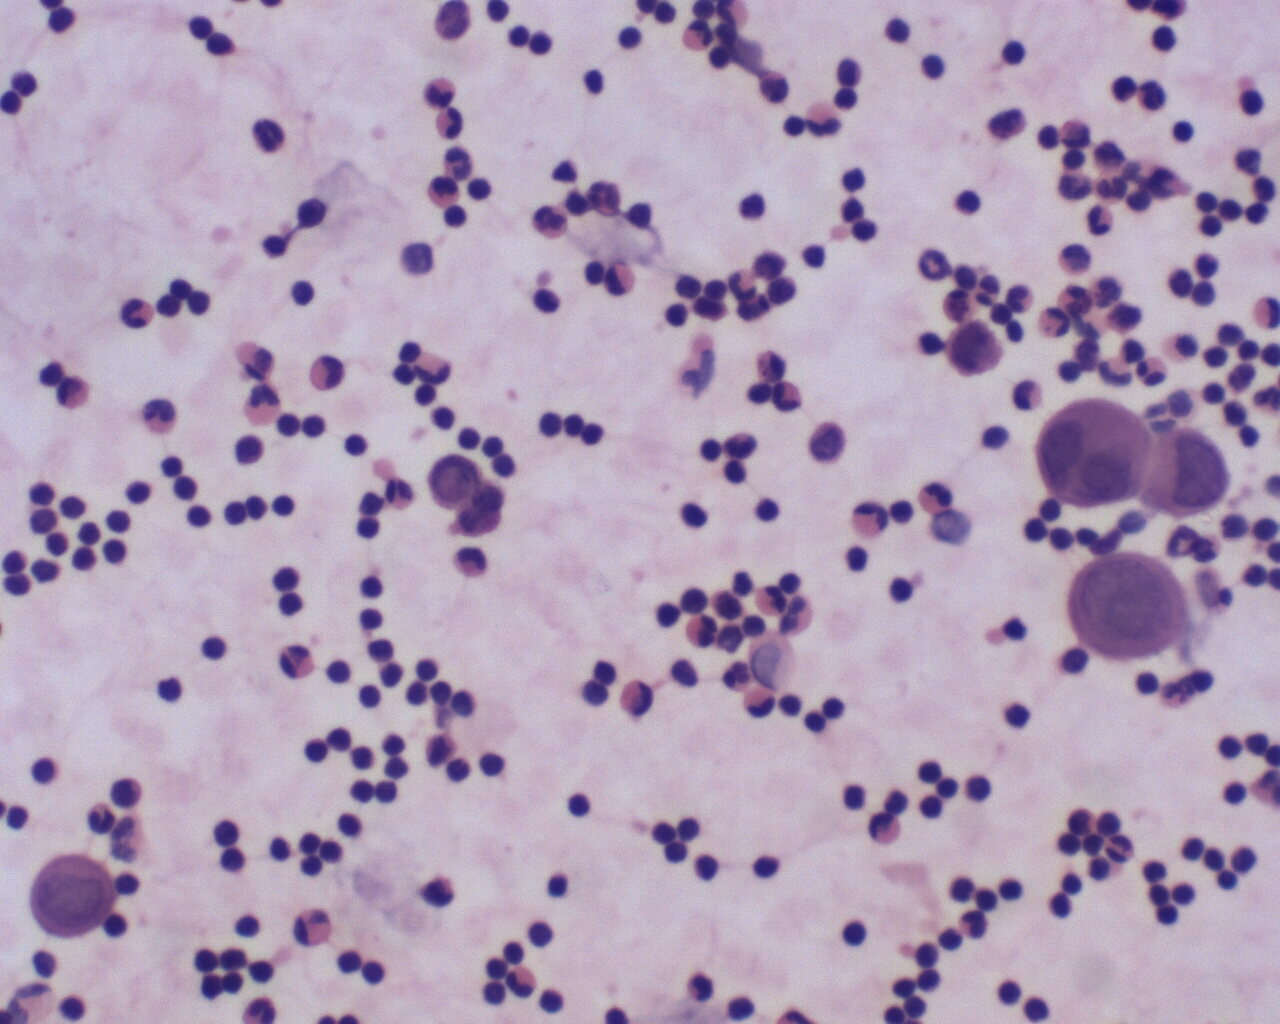ab: (1070, 549, 1193, 661), (1037, 395, 1153, 509), (1141, 421, 1233, 521), (24, 850, 117, 942)
lymph: (988, 967, 1025, 1009), (523, 914, 563, 953), (838, 916, 876, 956), (472, 743, 512, 781), (676, 493, 711, 534), (996, 33, 1034, 69), (747, 852, 790, 881), (563, 788, 599, 822), (195, 630, 229, 666), (999, 699, 1035, 731), (335, 429, 368, 462), (995, 874, 1026, 904), (886, 574, 915, 606), (270, 494, 300, 523)
neutro: (845, 493, 895, 541), (297, 353, 348, 396), (615, 673, 659, 721), (1128, 350, 1170, 390), (418, 70, 459, 109), (531, 203, 568, 242), (915, 240, 952, 281), (1081, 202, 1118, 241), (439, 144, 476, 180), (118, 295, 154, 330)
